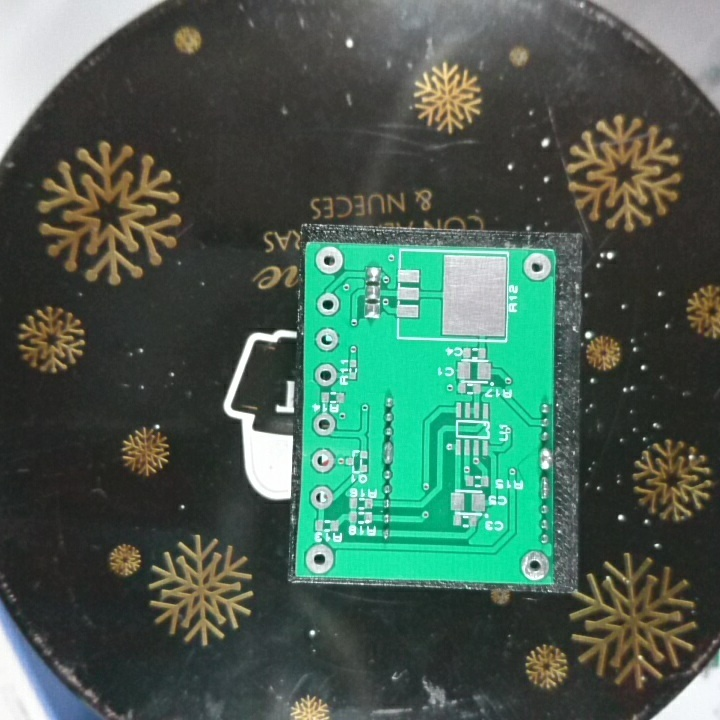F: (518, 548, 551, 582), (303, 542, 336, 575), (521, 252, 552, 284), (314, 245, 345, 275), (308, 483, 337, 512), (311, 409, 337, 441), (314, 289, 342, 318), (312, 326, 340, 353), (310, 446, 336, 475), (312, 364, 339, 389)
P: (536, 446, 553, 473), (380, 440, 397, 466), (537, 473, 552, 500)
